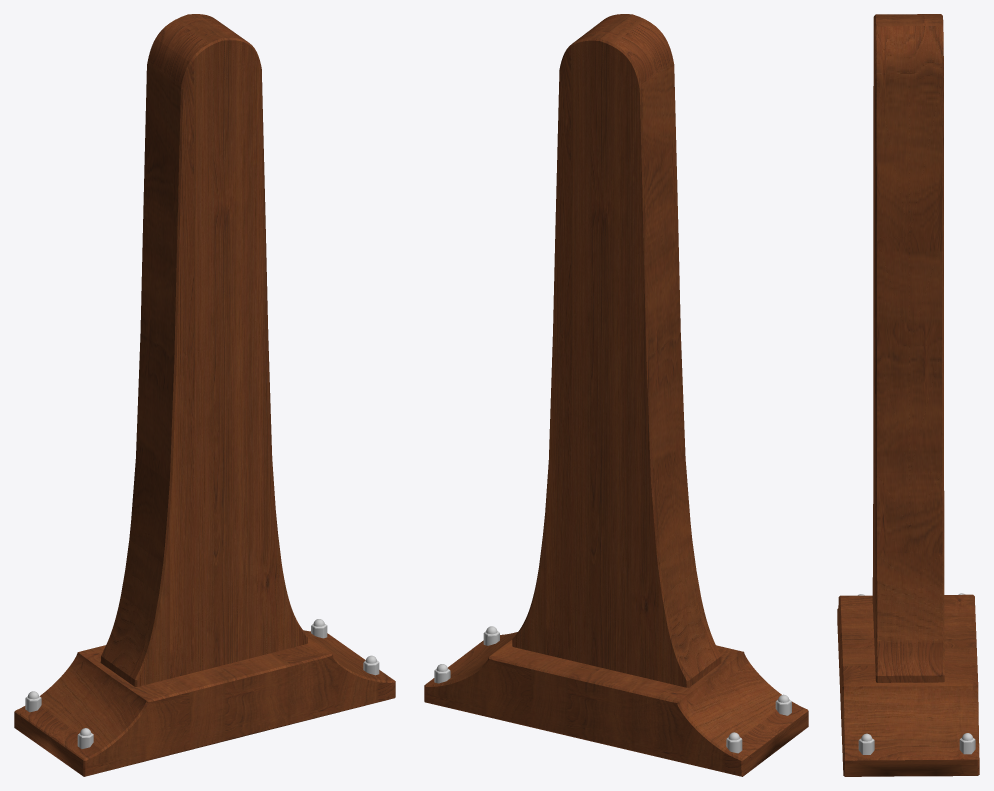
File: Shturval_Opora.FBX
3 views of the same model, side by side, from view 1: azimuth 30°, elevation 25°; view 2: azimuth 150°, elevation 25°; view 3: azimuth 270°, elevation 25° (orthographic).
Parts seen in each view (by area): view 1: Rectangle004; view 2: Rectangle004; view 3: Rectangle004.
Part boxes in pixels (bbox=[...]): Rectangle004: bbox=[14, 14, 395, 776]; Rectangle004: bbox=[424, 14, 808, 776]; Rectangle004: bbox=[837, 14, 979, 776].
Bounding box in the file's own units: 26.03 × 53.87 × 10.18.
